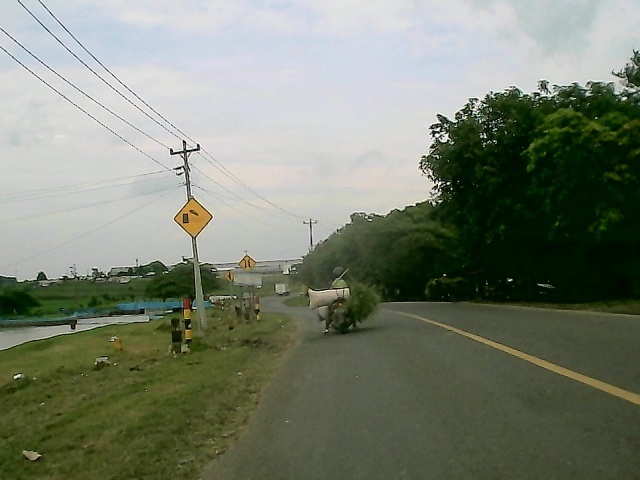Jembatan: (238, 254, 258, 274)
Peringatan tepi air: (171, 196, 213, 240)
